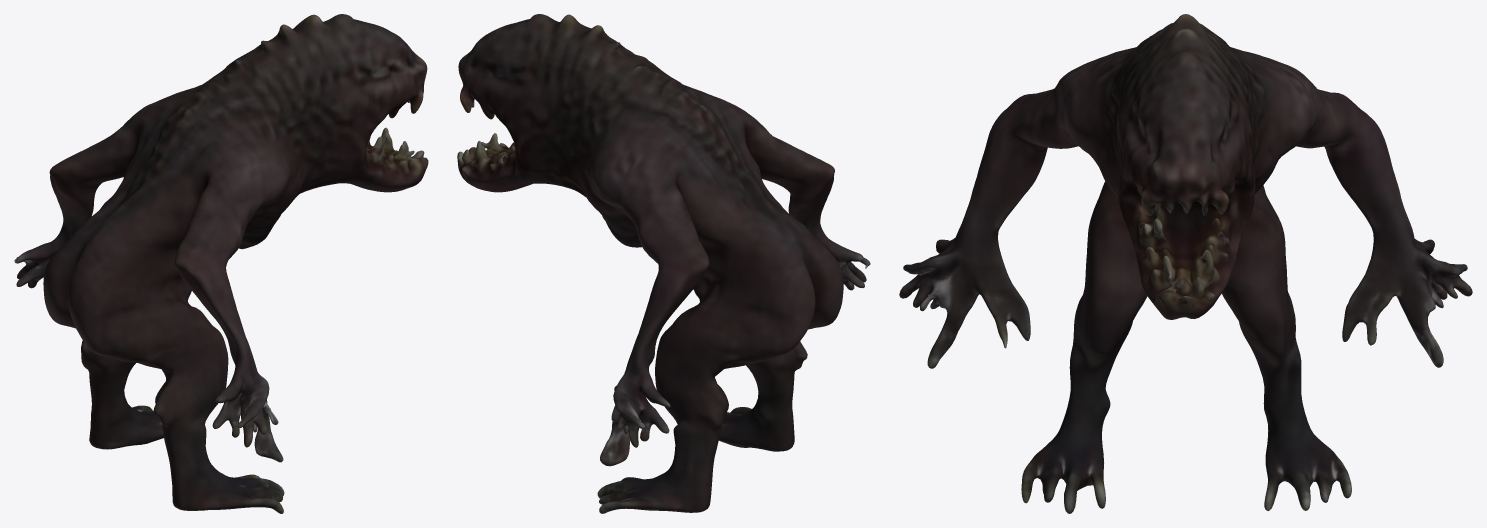
Rendered from dc7be421444d_The_creature_leans_forward___0_glb.glb.
3 views of the same model, side by side, from view 1: azimuth 30°, elevation 25°; view 2: azimuth 150°, elevation 25°; view 3: azimuth 270°, elevation 25° (orthographic). The views are drawn at different scales.
Visible parts, largest first — view 1: world; view 2: world; view 3: world.
Part boxes in pixels (bbox=[...]): world: bbox=[14, 14, 428, 513]; world: bbox=[457, 14, 870, 513]; world: bbox=[899, 14, 1472, 513].
Size of the model in its own units: 0.4548 by 0.5102 by 0.4957.
1 material, 1 textured.
